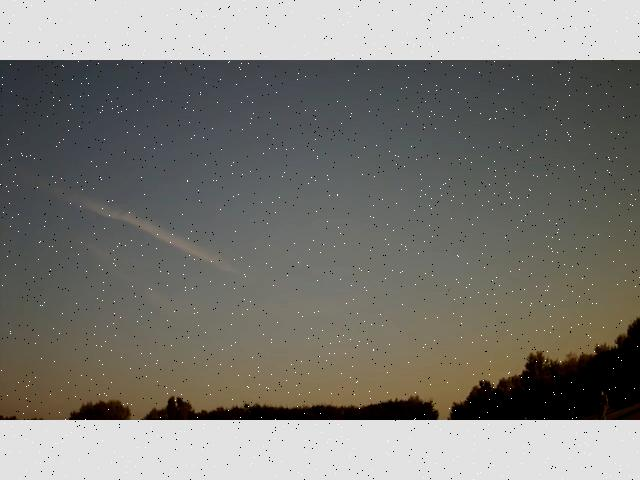Anti-Drone: (442, 285, 458, 295)
